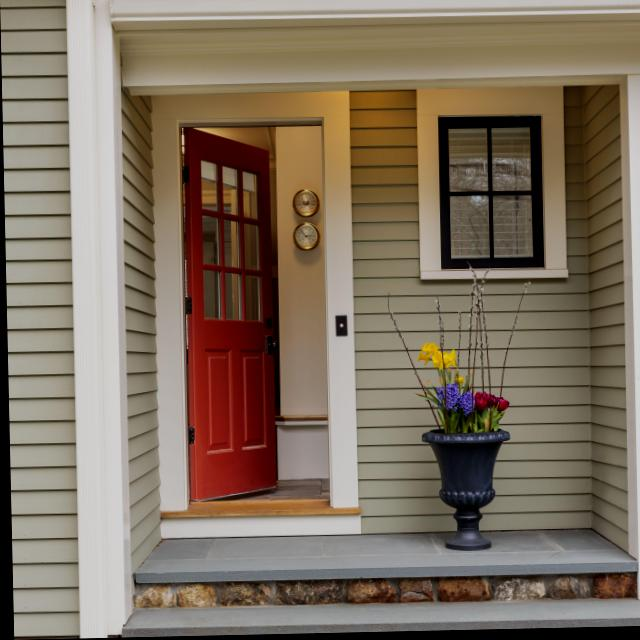semi-open: (171, 110, 341, 519)
